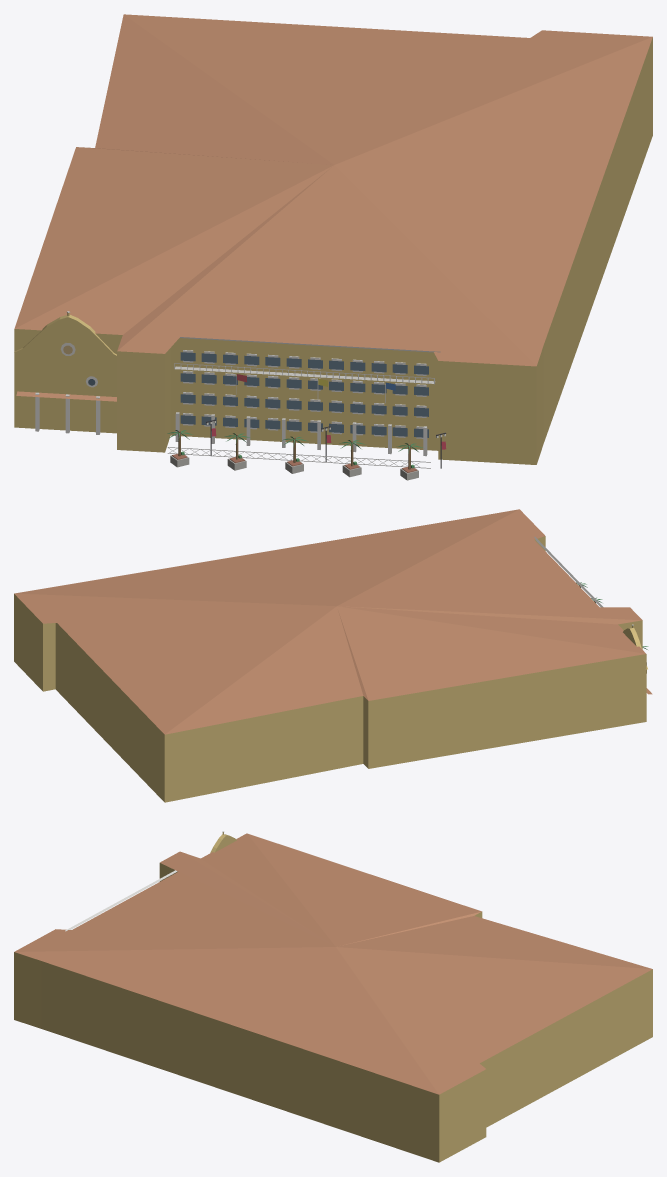
Rendered from renmall.glb.
3 renders of one model, top to bottom at view 1: azimuth 30°, elevation 25°; view 2: azimuth 150°, elevation 25°; view 3: azimuth 270°, elevation 25°, orthographic. The views are drawn at different scales.
Parts seen in each view (by area): view 1: renmall_lod0; view 2: renmall_lod0; view 3: renmall_lod0.
Boxes of the visible parts, x1,y1,x2,y2 form: renmall_lod0: (14,14,652,480); renmall_lod0: (14,509,652,802); renmall_lod0: (14,831,652,1162).
Size of what is drawn, in the model's own units: 101 by 15 by 104.
